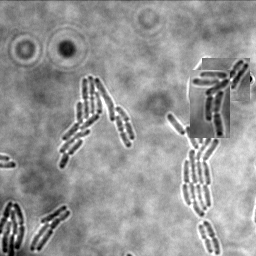Dividing: (204, 219, 222, 255), (199, 223, 215, 253)
Microcolony: (167, 57, 238, 216), (59, 75, 136, 169), (190, 70, 230, 138), (202, 58, 250, 101), (30, 204, 72, 251), (1, 200, 26, 255)
